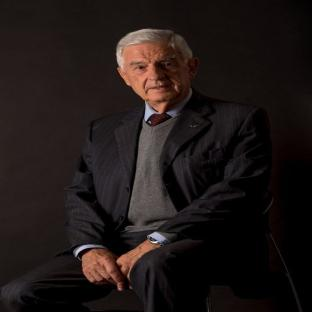Human: (0, 29, 292, 312)
